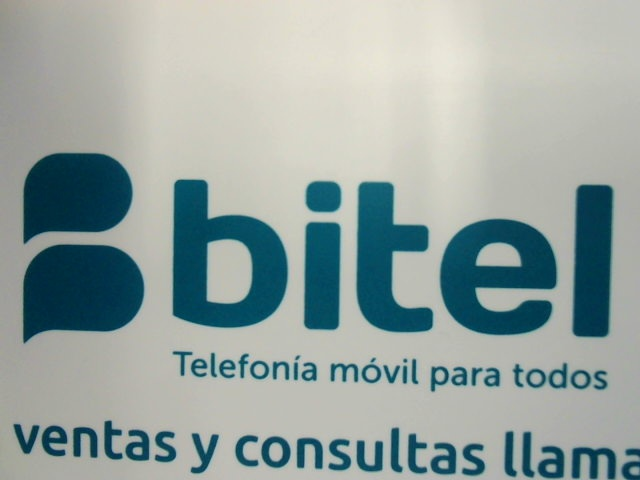BE_bitel: (14, 151, 620, 352)
